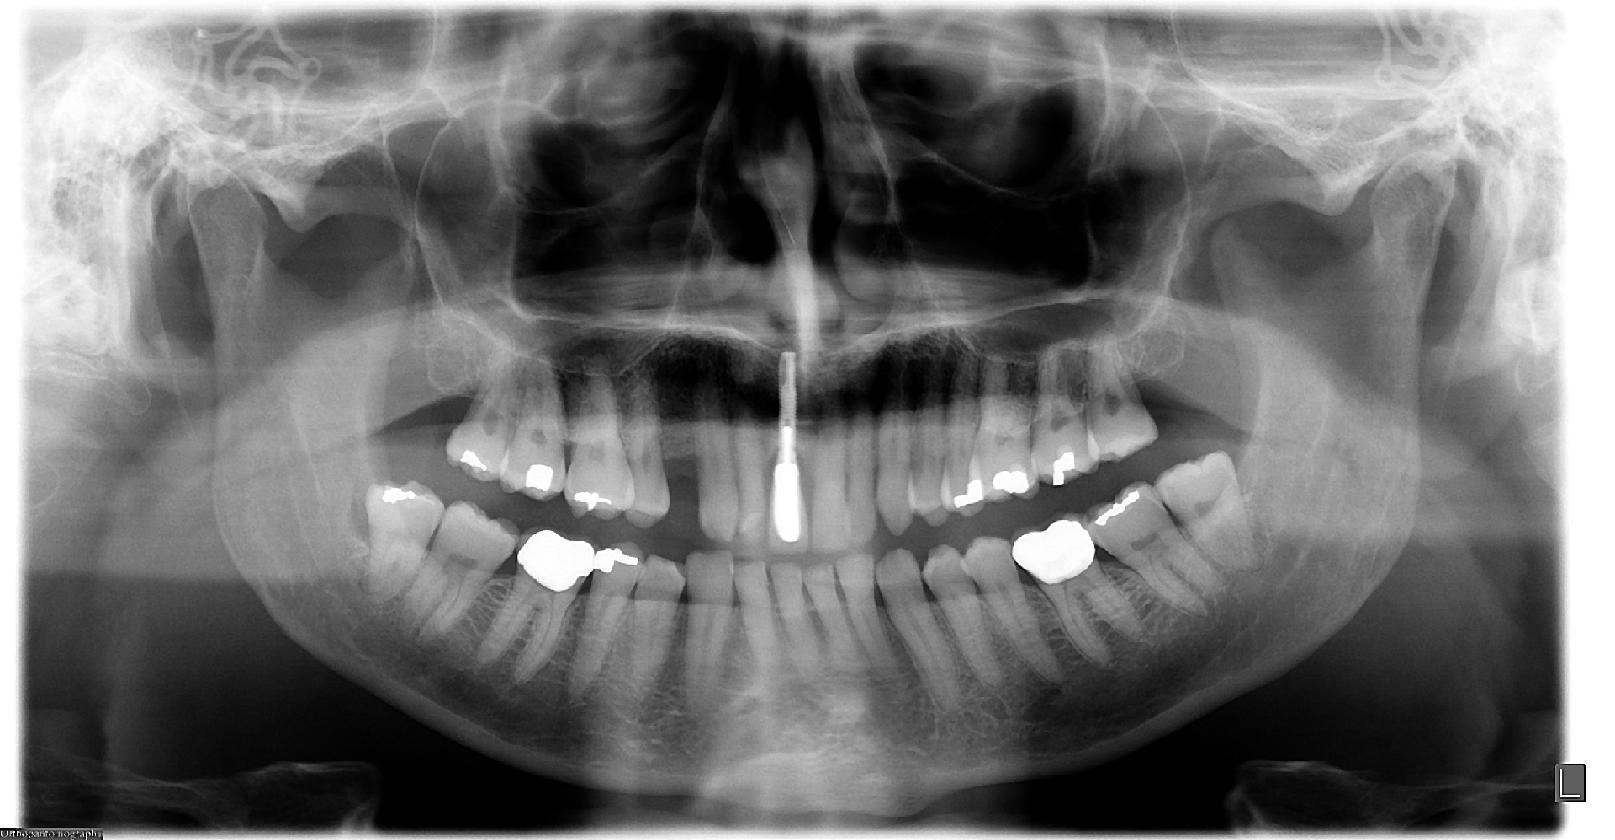Erupted: (1150, 445, 1263, 586), (349, 475, 451, 610)
